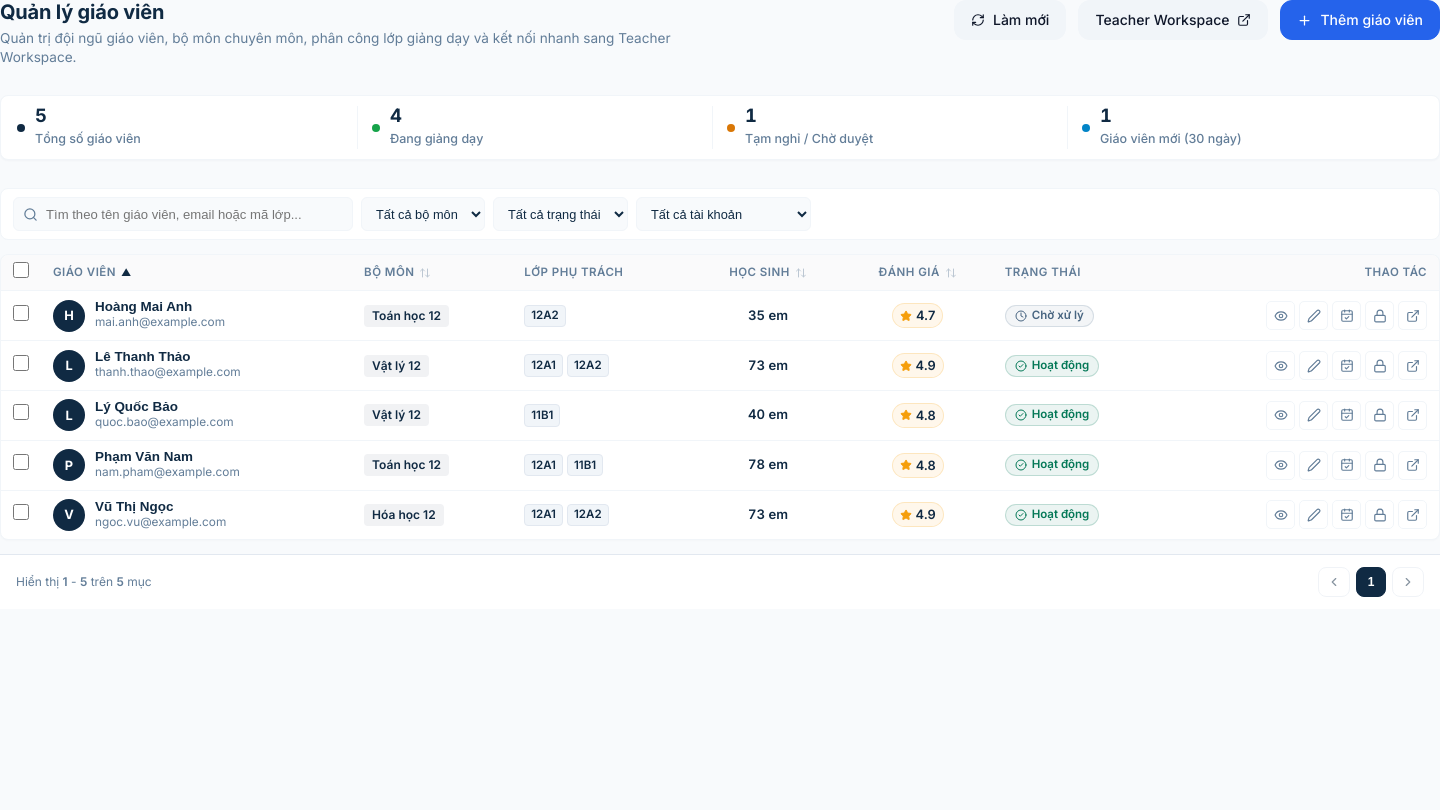
Scenario: AdminTeachersPage — ZhongWenHub Architecture Suite › 3. Opens TeacherDetailDrawer, switches tabs, and saves edited profile
Check: the button "Lê Thanh Thảo" is shown, box [95,349,241,364]
// Click Eye button to open drawer
Click the button named "Xem hồ sơ Lê Thanh Thảo". click: (1280, 366)
box: [1266,351,1295,380]
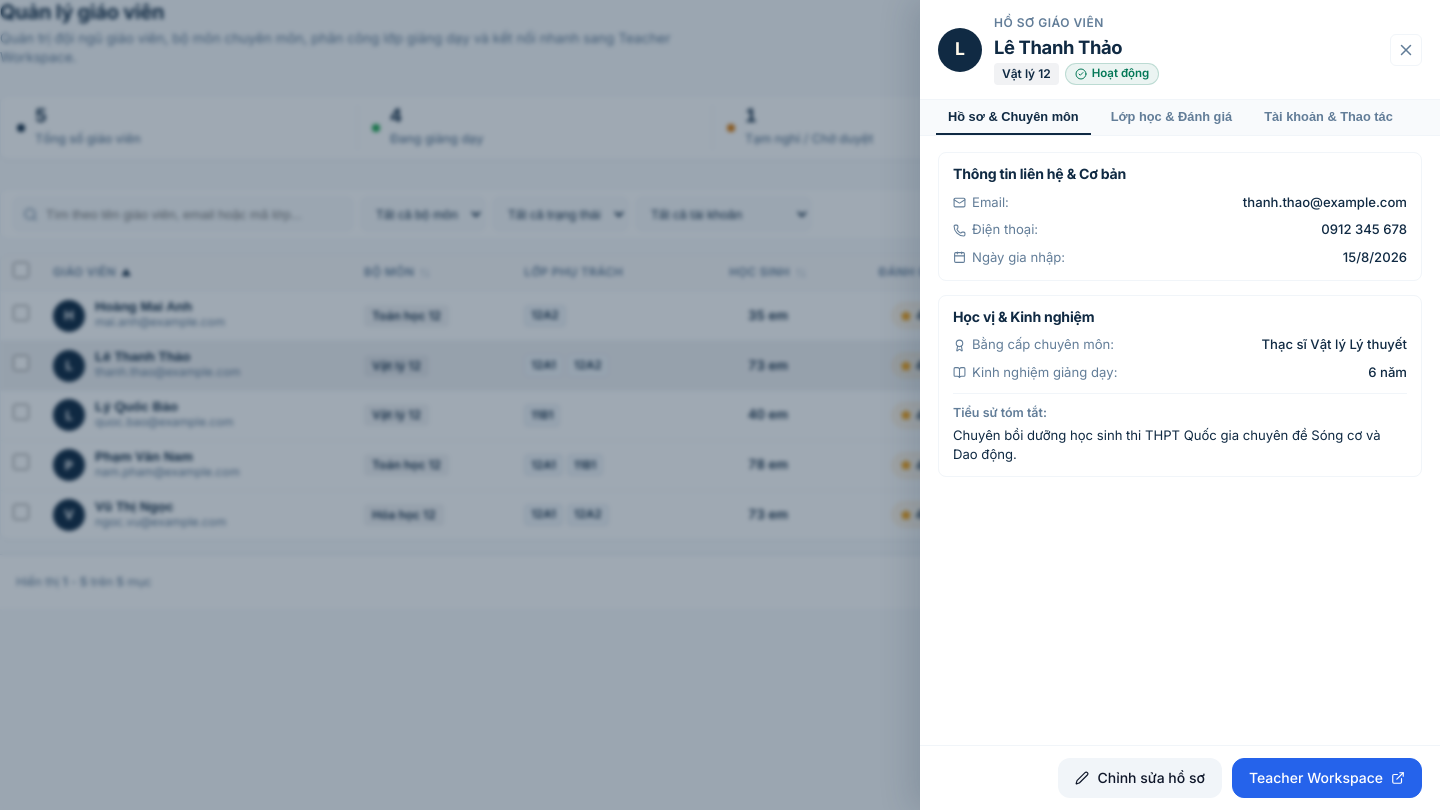
Check: the text "thanh.thao@example.com" below "mai.anh@example.com" is shown, box [95,365,241,379]
Check: the dialog "Lê Thanh Thảo" is shown, box [920,0,1439,809]
Check: the text "Hồ sơ giáo viên" is shown, box [994,15,1104,30]
// Switch to "Lớp học & Đánh giá" tab
Click the button "Lớp học & Đánh giá". click: (1171, 118)
box: [1099,100,1244,135]
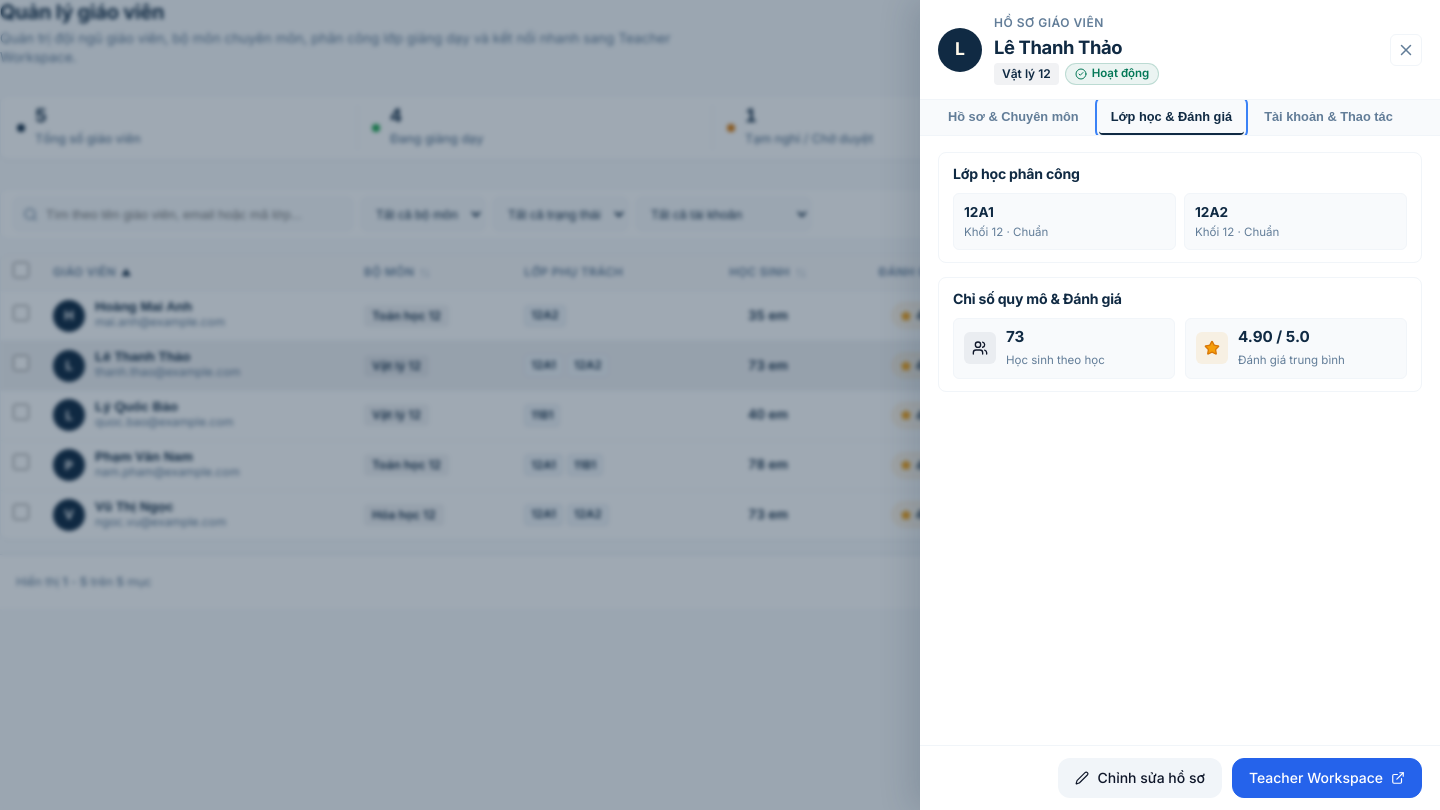
Check: the heading "Lớp học phân công" is shown, box [953,165,1080,182]
// Switch to "Tài khoản & Thao tác" tab
Click the button "Tài khoản & Thao tác". click: (1328, 118)
box: [1252,100,1405,135]
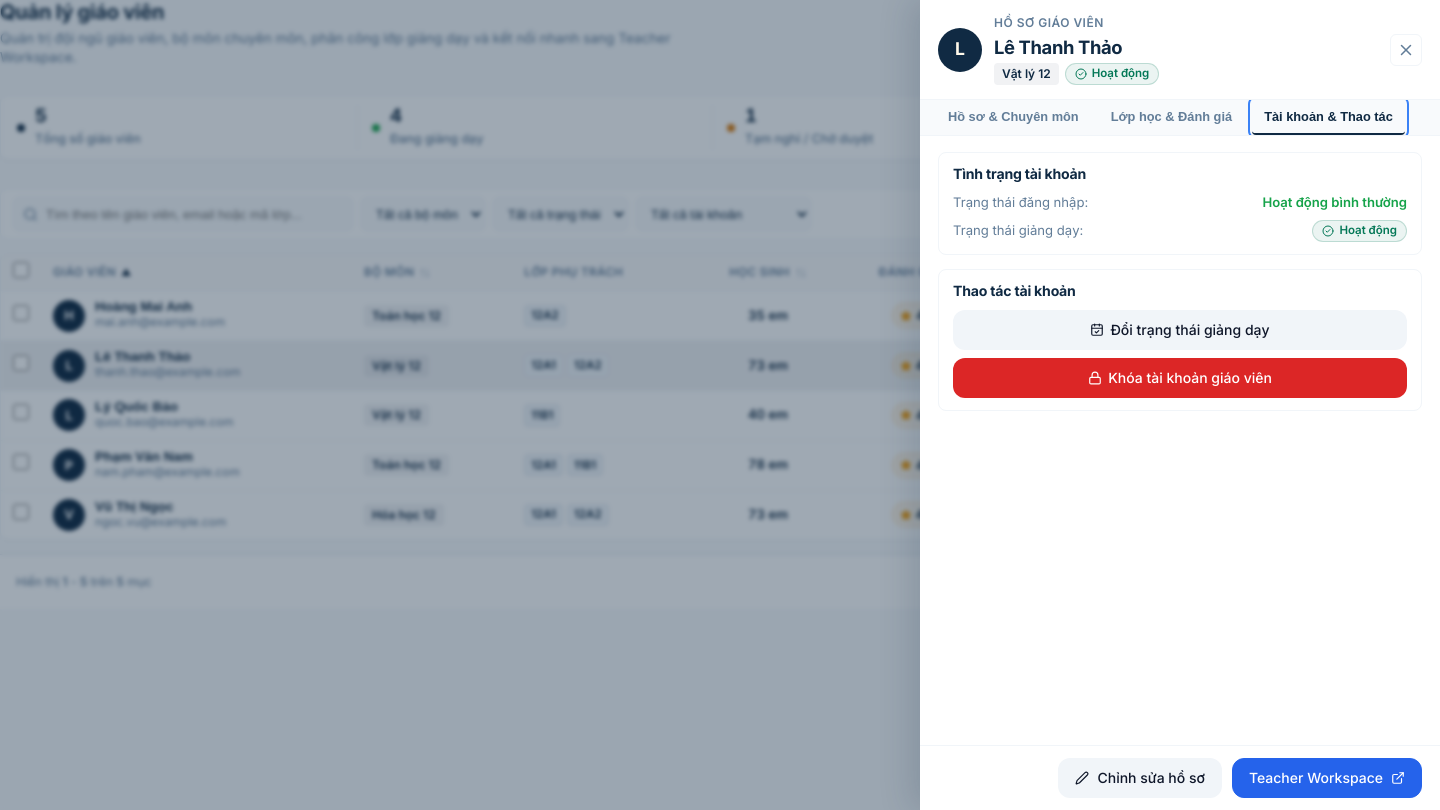
Check: the heading "Tình trạng tài khoản" is shown, box [953,165,1086,182]
// Click "Chỉnh sửa hồ sơ"
Click the button "Chỉnh sửa hồ sơ". click: (1140, 778)
box: [1058,758,1222,798]
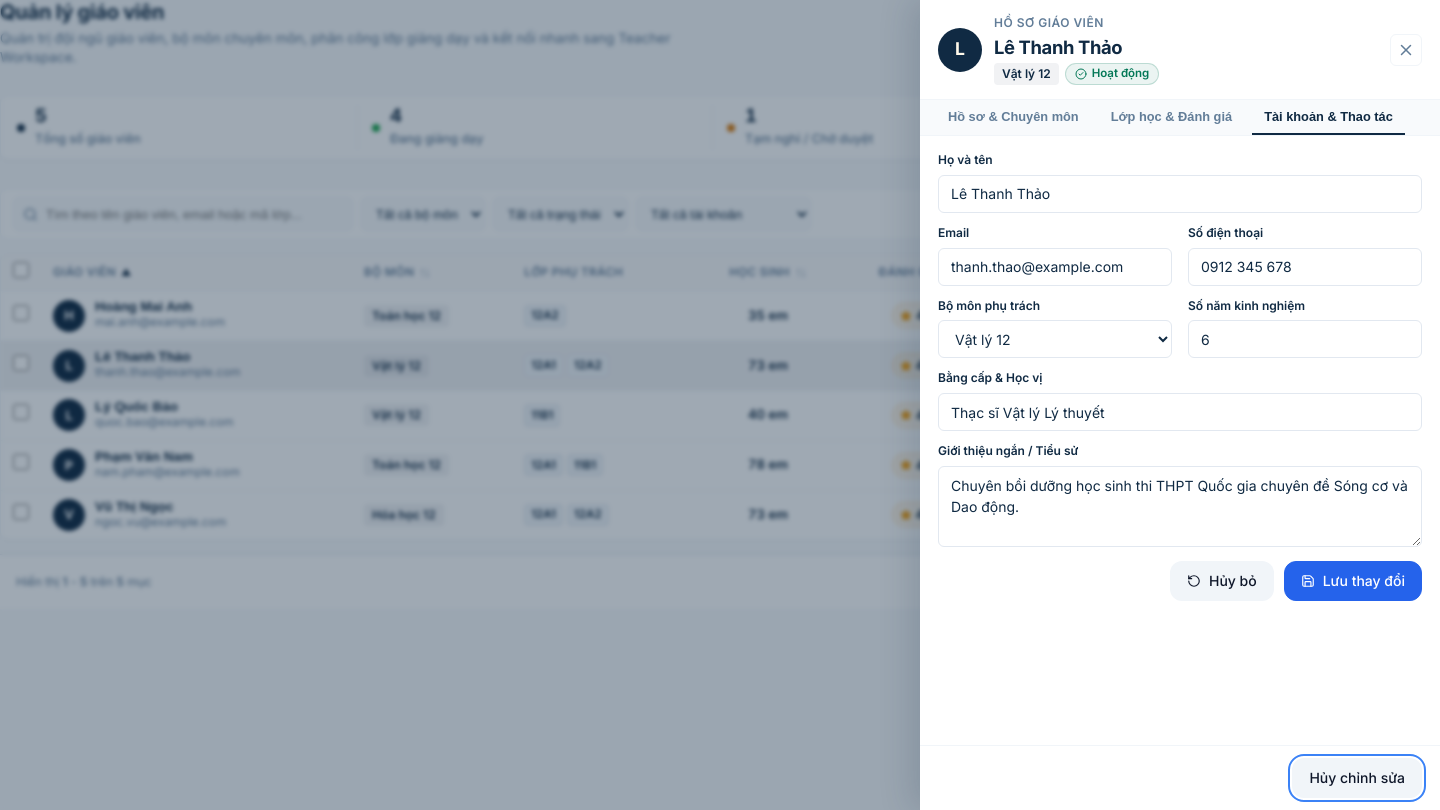
Check: the field labelled "Họ và tên" holds "Lê Thanh Thảo"
Replace the text in the field labelled "Họ và tên" with "TS. Lê Thanh Thảo". click: (1180, 194)
box: [938,175,1422,213]
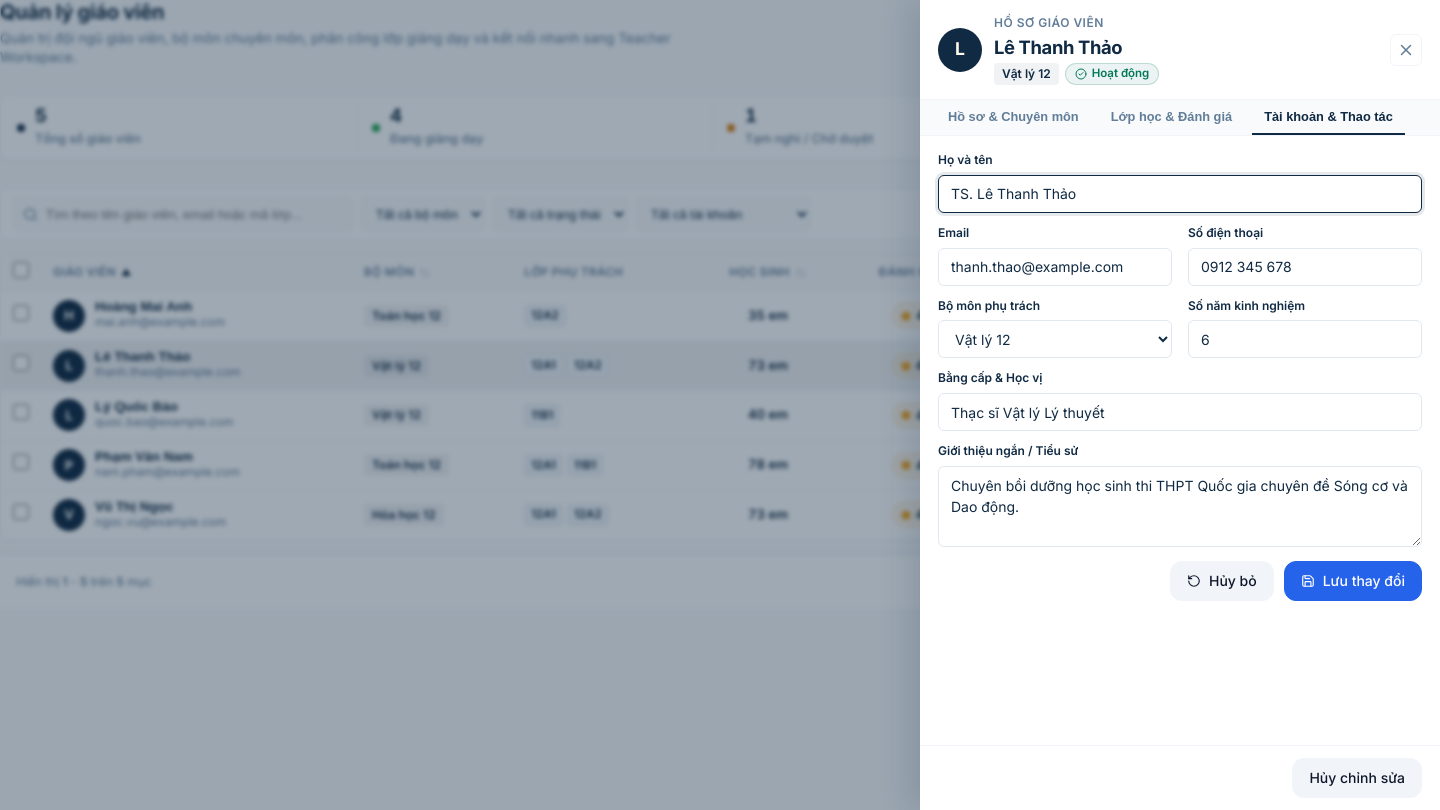
// Submit edit
Click the button "Lưu thay đổi". click: (1353, 581)
box: [1284,561,1422,601]
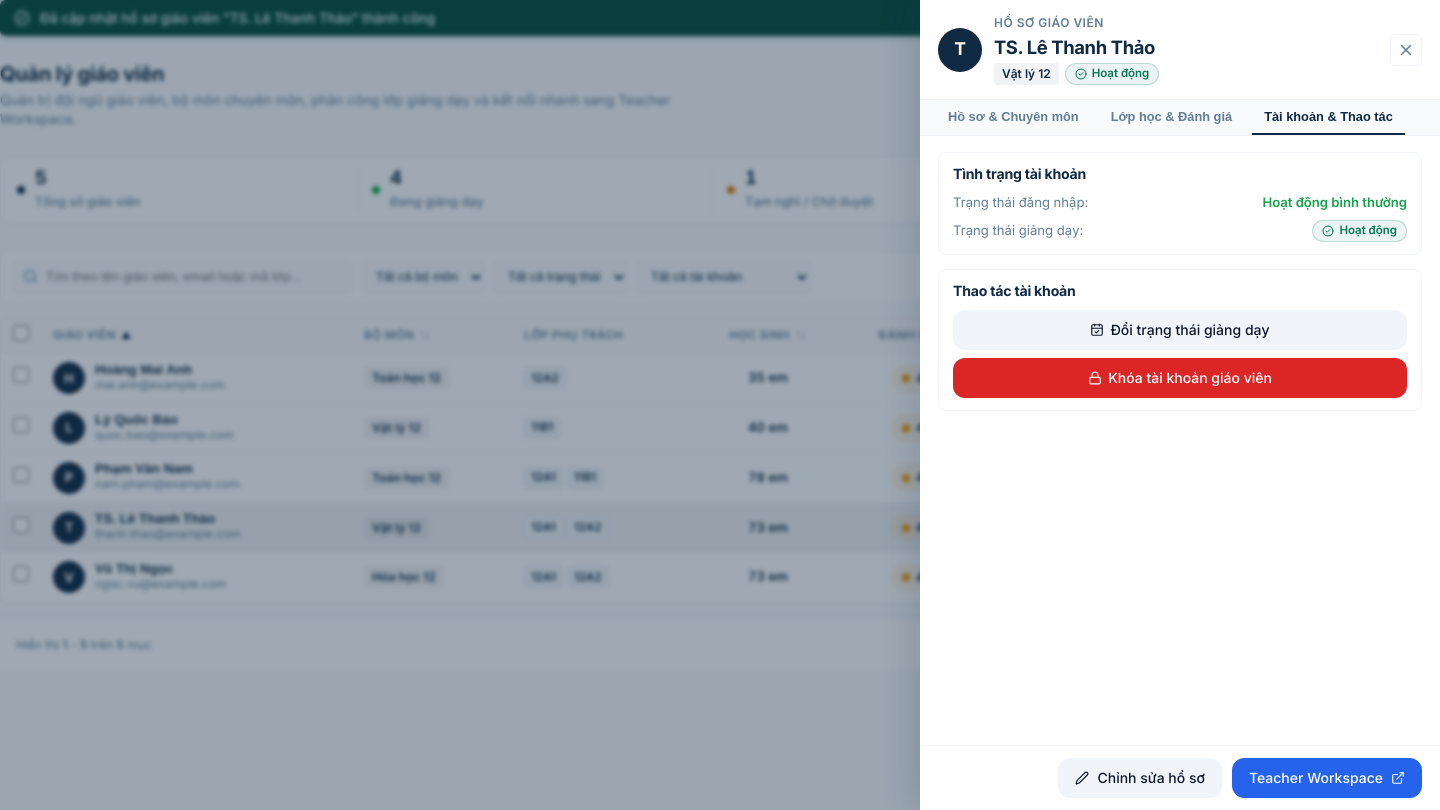
Check: the text "Đã cập nhật hồ sơ giáo viên \"TS. Lê Thanh Thảo\" thành công" is shown, box [40,8,435,28]
